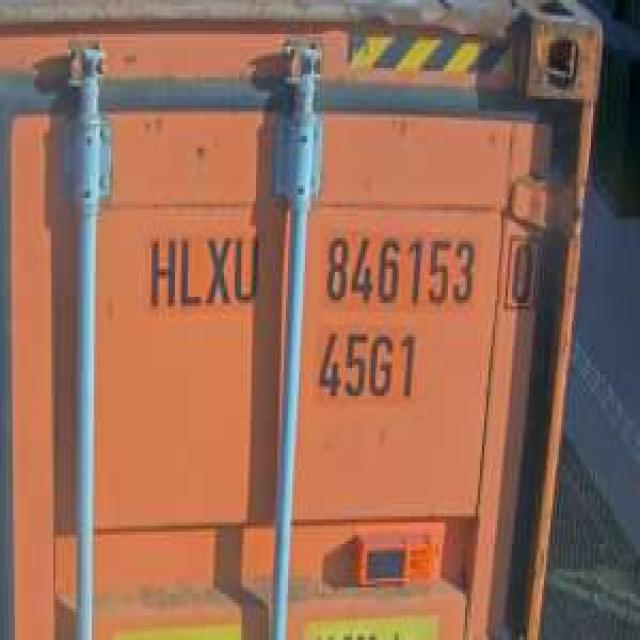dv: (502, 230, 539, 313)
owner: (145, 226, 260, 313)
serial: (320, 227, 478, 312)
size: (314, 326, 418, 404)
